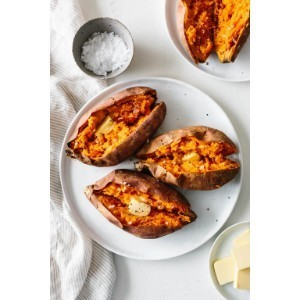sweet potato_brain food: (65, 93, 237, 239)
